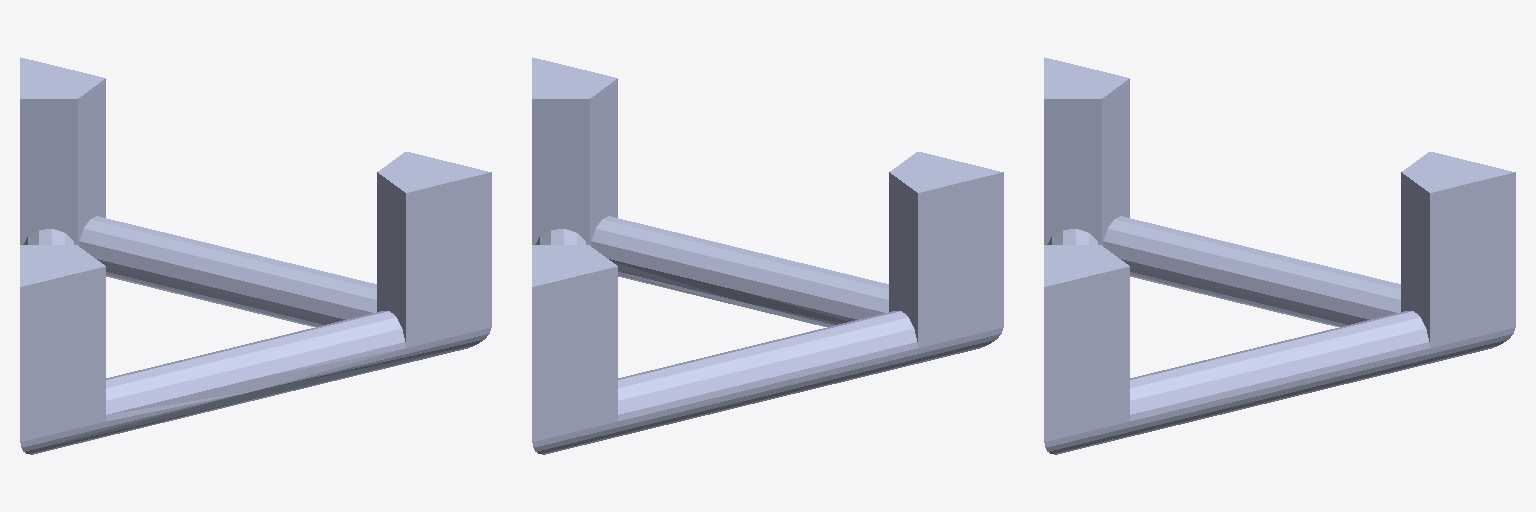
URDF robot description (triangular_gripper):
<?xml version="1.0" encoding="utf-8"?>
<!-- This URDF was automatically created by SolidWorks to URDF Exporter! Originally created by [author] ([email redacted])
     Commit Version: 1.6.0-1-g15f4949  Build Version: 1.6.7594.29634

     hub inertial xyz="-9.0477E-07 2.9418E-06 -0.022808"
     arm1 inertial xyz="0.05469 0.031218 -0.080132"
     xyz="-0.00030951 -0.066877 -0.076711"
     xyz="-0.037321 0.021905 -0.090989"
     For more information, please see http://wiki.ros.org/sw_urdf_exporter -->
<robot
  name="triangular_gripper">
  <link
    name="hub">
    <inertial>
      <origin
        xyz="0 0 2"
        rpy="0 0 0" />
      <mass
        value="0.031918" />
      <inertia
        ixx="2.575E-05"
        ixy="-6.389E-10"
        ixz="2.3003E-11"
        iyy="2.5749E-05"
        iyz="3.7001E-10"
        izz="4.5243E-05" />
    </inertial>
    <visual>
      <origin
        xyz="0 0 2"
        rpy="0 0 0" />
      <geometry>
        <mesh
          filename="package://swarm_collection/meshes/hub.STL" />
      </geometry>
      <material
        name="">
        <color
          rgba="0.79216 0.81961 0.93333 1" />
      </material>
    </visual>
    <collision>
      <!-- <origin
        xyz="0 0 1"
        rpy="0 0 0" /> -->
      <geometry>
        <mesh
          filename="package://swarm_collection/meshes/hub.STL" />
      </geometry>
    </collision>
  </link>

  <joint
    name="rev_1"
    type="fixed">
    <limit upper="0.7" lower="0.7" velocity="0.0" effort="0" />
    <origin
      xyz="0 0 0"
      rpy="0 0 0" />
    <parent
      link="hub" />
    <child
      link="arm_1" />
    <axis
      xyz="0.5 -0.86603 0" />
  </joint> -->

  <link
    name="arm_1">
    <inertial>
      <origin
        xyz="0 0 1"
        rpy="0 0 0" />
      <mass
        value="0.12184" />
      <inertia
        ixx="0.00021403"
        ixy="-2.5885E-05"
        ixz="7.048E-05"
        iyy="0.00024393"
        iyz="4.0681E-05"
        izz="7.2164E-05" />
    </inertial>
    <visual>
      <origin
        xyz="0 0 1"
        rpy="0 0 0" />
      <geometry>
        <mesh
          filename="package://swarm_collection/meshes/arm_1.STL" />
      </geometry>
      <material
        name="">
        <color
          rgba="0.79216 0.81961 0.93333 1" />
      </material>
    </visual>
    <collision>
      <!-- <origin
        xyz="0 0 0"
        rpy="0 0 0" /> -->
      <geometry>
        <mesh
          filename="package://swarm_collection/meshes/arm_1.STL" />
      </geometry>
    </collision>
  </link>


  <!-- <joint
    name="rev_2"
    type="continuous">
    <origin
      xyz="0 0 0"
      rpy="0 0 0" />
    <parent
      link="hub" />
    <child
      link="arm_2" />
    <axis
      xyz="1 0 0" />
  </joint>

  <link
    name="arm_2">
    <inertial>
      <origin
        xyz="0 0 1"
        rpy="0 0 0" />
      <mass
        value="0.12184" />
      <inertia
        ixx="0.00025888"
        ixy="-8.7071E-09"
        ixz="-8.6055E-09"
        iyy="0.0001852"
        iyz="-9.051E-05"
        izz="8.6049E-05" />
    </inertial>
    <visual>
      <origin
        xyz="0 0 1"
        rpy="0 0 0" />
      <geometry>
        <mesh
          filename="package://swarm_collection/meshes/arm_2.STL" />
      </geometry>
      <material
        name="">
        <color
          rgba="0.79216 0.81961 0.93333 1" />
      </material>
    </visual>
    <collision>
      <origin
        xyz="0 0 0"
        rpy="0 0 0" />
      <geometry>
        <mesh
          filename="package://swarm_collection/meshes/arm_2.STL" />
      </geometry>
    </collision>
  </link> -->

  <!-- <joint
    name="rev_3"
    type="fixed">
    <parent link="hub"/>
    <child link="arm_3"/>
    <origin
      xyz="0 0 0"
      rpy="0 0 0" />
    <parent
      link="hub" />
    <child
      link="arm_3" />
    <axis
      xyz="0.5 0.86603 1" />
  </joint>

  <link
    name="arm_3">
    <inertial>
      <origin
        xyz="0 0 1"
        rpy="0 0 0" />
      <mass
        value="0.12184" />
      <inertia
        ixx="0.00024219"
        ixy="9.6365E-06"
        ixz="-1.8336E-05"
        iyy="0.00025331"
        iyz="1.06E-05"
        izz="3.4624E-05" />
    </inertial>
    <visual>
      <origin
        xyz="0 0 1"
        rpy="0 0 0" />
      <geometry>
        <mesh
          filename="package://swarm_collection/meshes/arm_1.STL" />
      </geometry>
      <material
        name="">
        <color
          rgba="0.79216 0.81961 0.93333 1" />
      </material>
    </visual>
    <collision>
      <origin
        xyz="0 0 0"
        rpy="0 0 0" />
      <geometry>
        <mesh
          filename="package://swarm_collection/meshes/arm_3.STL" />
      </geometry>
    </collision>
  </link> -->

</robot>

--- Facts derived from the render (not from the file) ---
3 views of the same robot in one strip: view 1: azimuth 30°, elevation 25°; view 2: azimuth 150°, elevation 25°; view 3: azimuth 270°, elevation 25° (orthographic).
Model triangular_gripper with 2 links and 1 joints (1 fixed), rooted at hub, posed all joints at 0.
Links seen in each view (by area): view 1: hub; view 2: hub; view 3: hub.
Link boxes in pixels (left/top/right/bottom): hub: left=20, top=57, right=491, bottom=454; hub: left=532, top=57, right=1003, bottom=454; hub: left=1044, top=57, right=1515, bottom=454.
Bounding box of the posed robot: 0.0953 × 0.0825 × 0.035 m (x, y, z).
1 mesh visuals loaded from 2 distinct referenced files (1 binary STL); not drawn: 1 (reference not matched to a file when rendering).